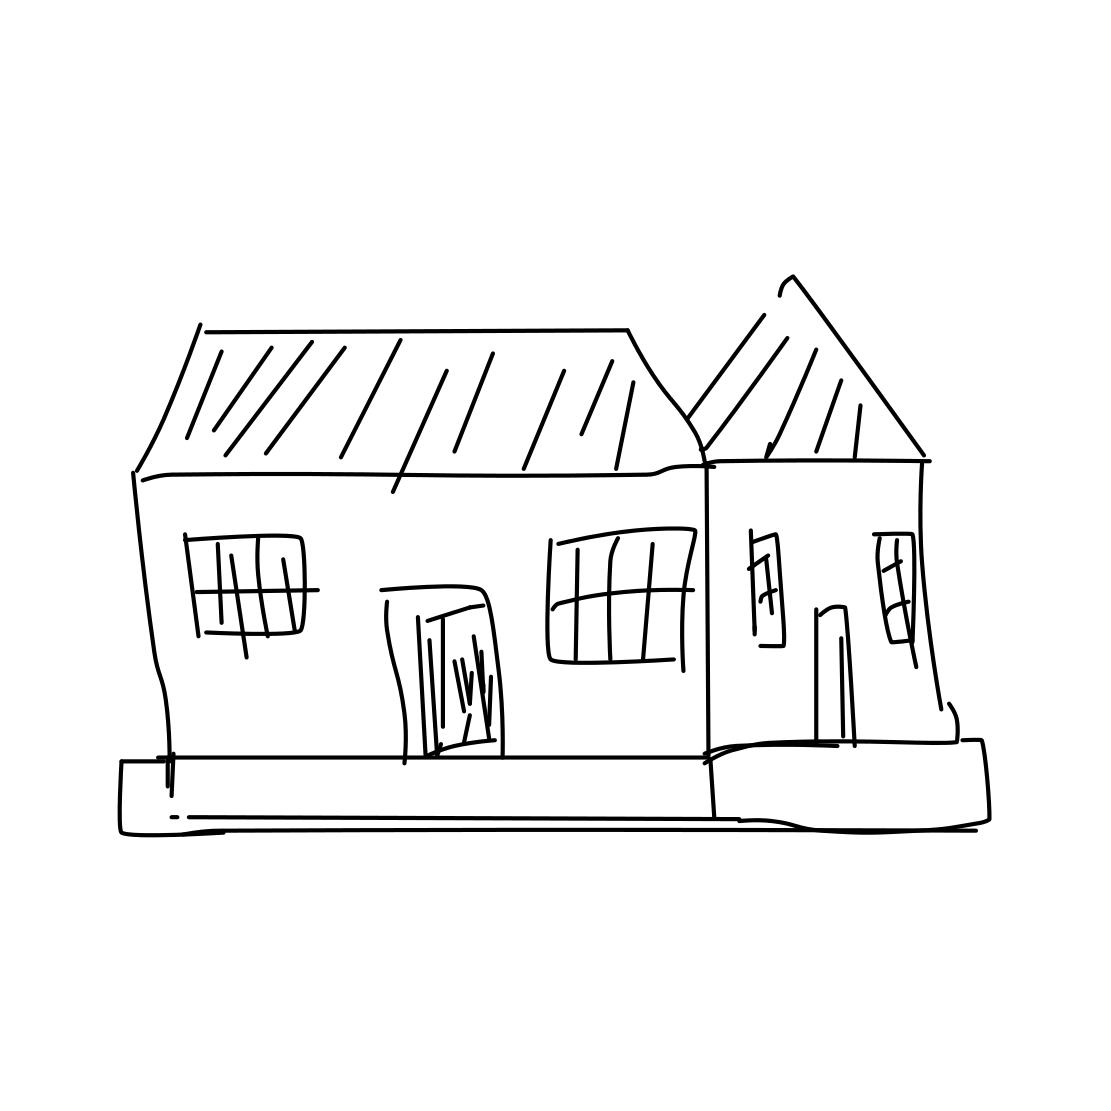door: (368, 564, 515, 770), (805, 593, 868, 755)
house: (105, 302, 734, 857), (665, 250, 1002, 862)
roof: (78, 308, 750, 496), (653, 243, 948, 483)
wall: (127, 473, 711, 747), (708, 465, 958, 735)
window: (536, 527, 692, 668), (182, 520, 320, 648), (868, 522, 924, 648), (745, 523, 792, 653)
